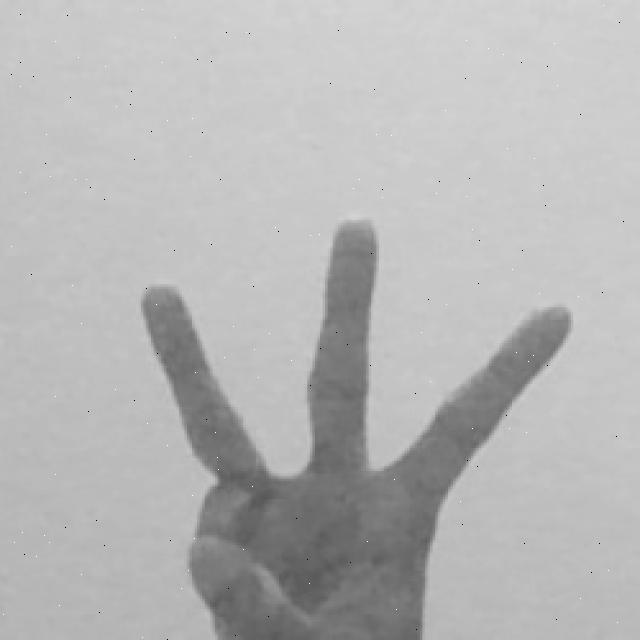W: (134, 204, 577, 640)
